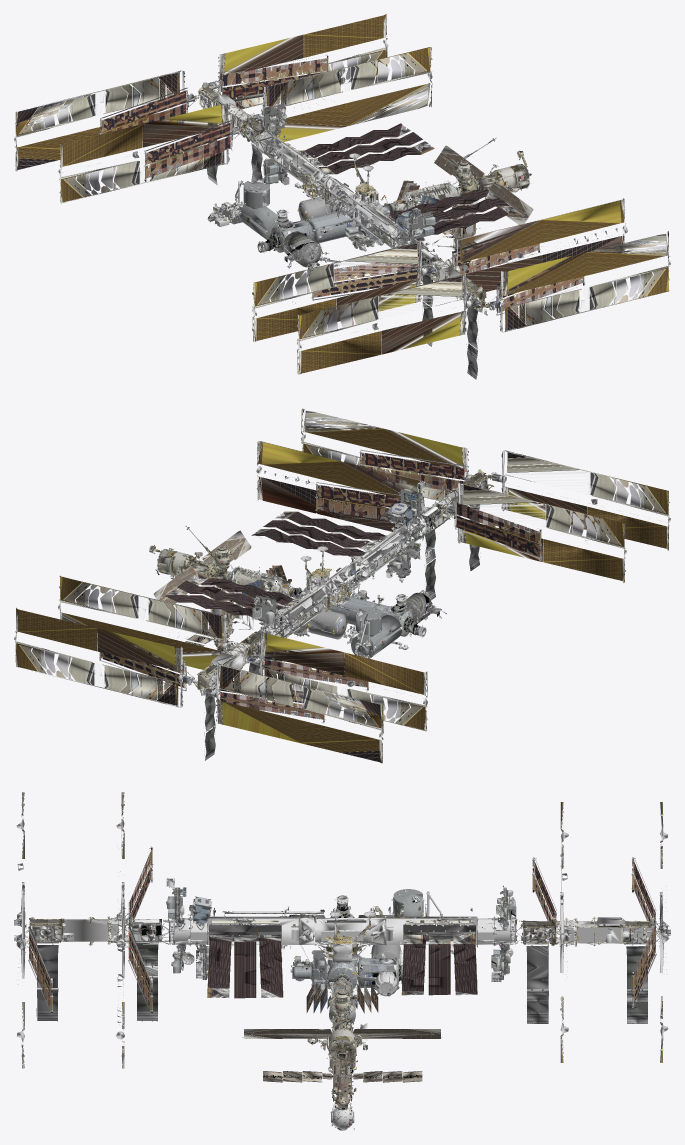
Rendered from iss.glb.
3 views of the same model, one above another, from view 1: azimuth 30°, elevation 25°; view 2: azimuth 150°, elevation 25°; view 3: azimuth 270°, elevation 25° (orthographic). The views are drawn at different scales.
Visible parts, largest first — view 1: P4_Array_2A.001 (×2), S4_Array_1A.001 (×2), P4_Array_4A.001, IROSA_Deployed_P44A (×3), P6_2B_Array.001, S4_Array_3A.001, P6_4B_Array.001, IROSA_Deployed_P64B (×3), P1_Radiator.003, S1_Radiator.001, Zvezda_SM, Truss_S6 (+15 smaller); view 2: S4_Array_1A.001 (×2), P4_Array_2A.001 (×2), P6_2B_Array.001, P6_4B_Array.001, P4_Array_4A.001, S4_Array_3A.001, IROSA_Deployed_P64B (×3), IROSA_Deployed_P44A (×3), S1_Radiator.001, P1_Radiator.003, Zvezda_SM, Truss_P6 (+14 smaller); view 3: S1_Radiator.001, P1_Radiator.003, Truss_S6, Truss_P6, Zvezda_SM, IROSA_Deployed_P64B (×3), Truss_P4, MLM.001, Truss_S4.001, IROSA_Deployed_P44A (×3), Truss_S0.001, Zarya_FGB.001 (+10 smaller).
Boxes of the visible parts, x1,y1,x2,y2 form: P4_Array_2A.001 (×2): [249, 47, 670, 332]; S4_Array_1A.001 (×2): [252, 240, 481, 374]; P4_Array_4A.001: [58, 103, 239, 203]; IROSA_Deployed_P44A (×3): [100, 87, 418, 300]; P6_2B_Array.001: [14, 70, 195, 171]; S4_Array_3A.001: [453, 198, 627, 299]; P6_4B_Array.001: [203, 14, 388, 109]; IROSA_Deployed_P64B (×3): [221, 55, 584, 315]; P1_Radiator.003: [286, 123, 434, 174]; S1_Radiator.001: [373, 189, 520, 241]; Zvezda_SM: [434, 145, 533, 225]; Truss_S6: [439, 267, 490, 379]; S4_Array_1A.001 (×2): [447, 450, 670, 582]; P4_Array_2A.001 (×2): [58, 408, 473, 670]; P6_2B_Array.001: [201, 663, 383, 763]; P6_4B_Array.001: [14, 607, 193, 707]; P4_Array_4A.001: [245, 631, 427, 731]; S4_Array_3A.001: [256, 441, 429, 541]; IROSA_Deployed_P64B (×3): [99, 449, 466, 691]; IROSA_Deployed_P44A (×3): [219, 502, 541, 722]; S1_Radiator.001: [251, 511, 398, 559]; P1_Radiator.003: [165, 572, 312, 633]; Zvezda_SM: [153, 530, 251, 608]; Truss_P6: [192, 650, 242, 760]; S1_Radiator.001: [207, 920, 283, 998]; P1_Radiator.003: [401, 920, 477, 995]; Truss_S6: [20, 918, 107, 1021]; Truss_P6: [577, 917, 659, 1023]; Zvezda_SM: [242, 1017, 442, 1067]; IROSA_Deployed_P64B (×3): [28, 920, 656, 1013]; Truss_P4: [515, 918, 560, 1023]; MLM.001: [263, 1023, 422, 1108]; Truss_S4.001: [120, 916, 171, 1021]; IROSA_Deployed_P44A (×3): [128, 847, 656, 937]; Truss_S0.001: [298, 918, 386, 962]; Zarya_FGB.001: [306, 980, 378, 1023].
Bounding box in the file's own units: 7.46 × 3.11 × 10.08.
42 materials, 40 textured.
